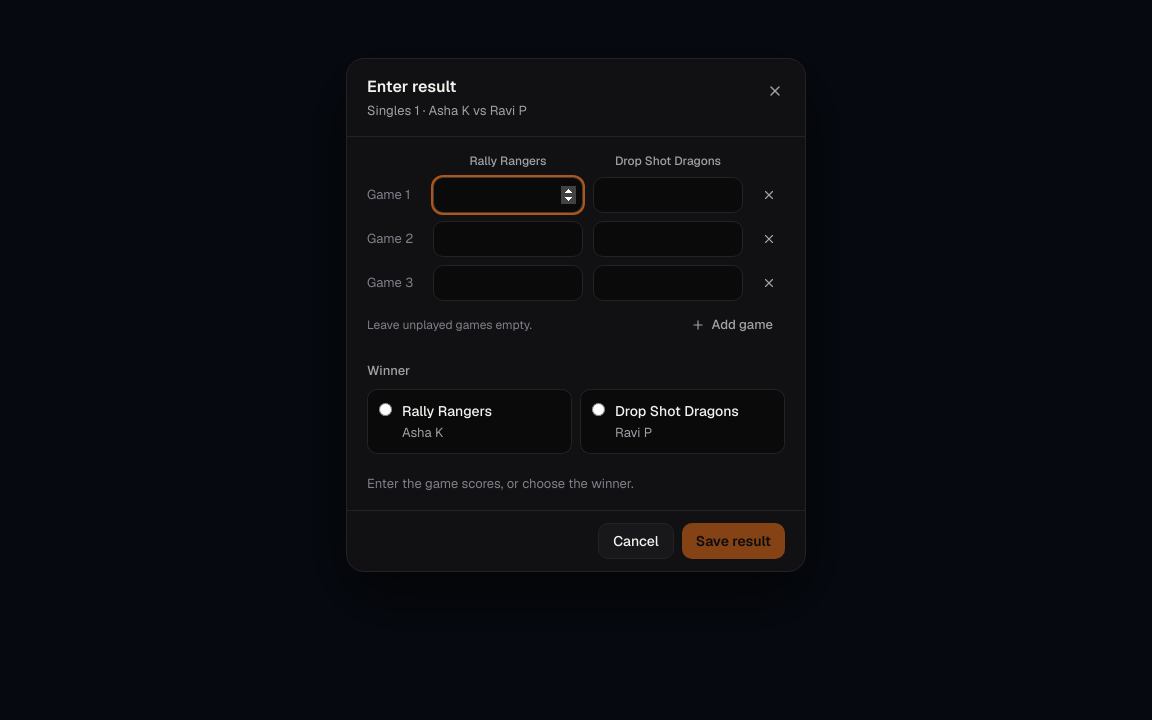
Test: SubMatchResultModal › blocks saving a level game
Type "20" into the number field named "Game 1, Rally Rangers" at (508, 195), box [433,177,583,213]
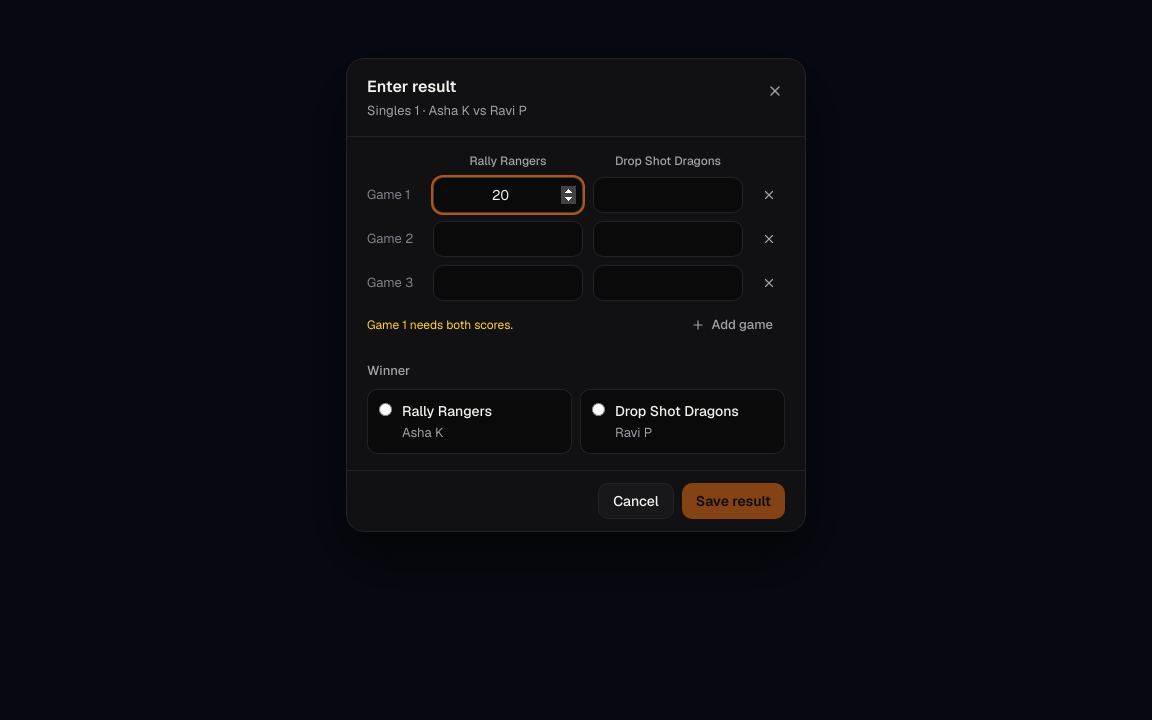
Type "20" into the number field named "Game 1, Drop Shot Dragons" at (668, 195), box [593,177,743,213]
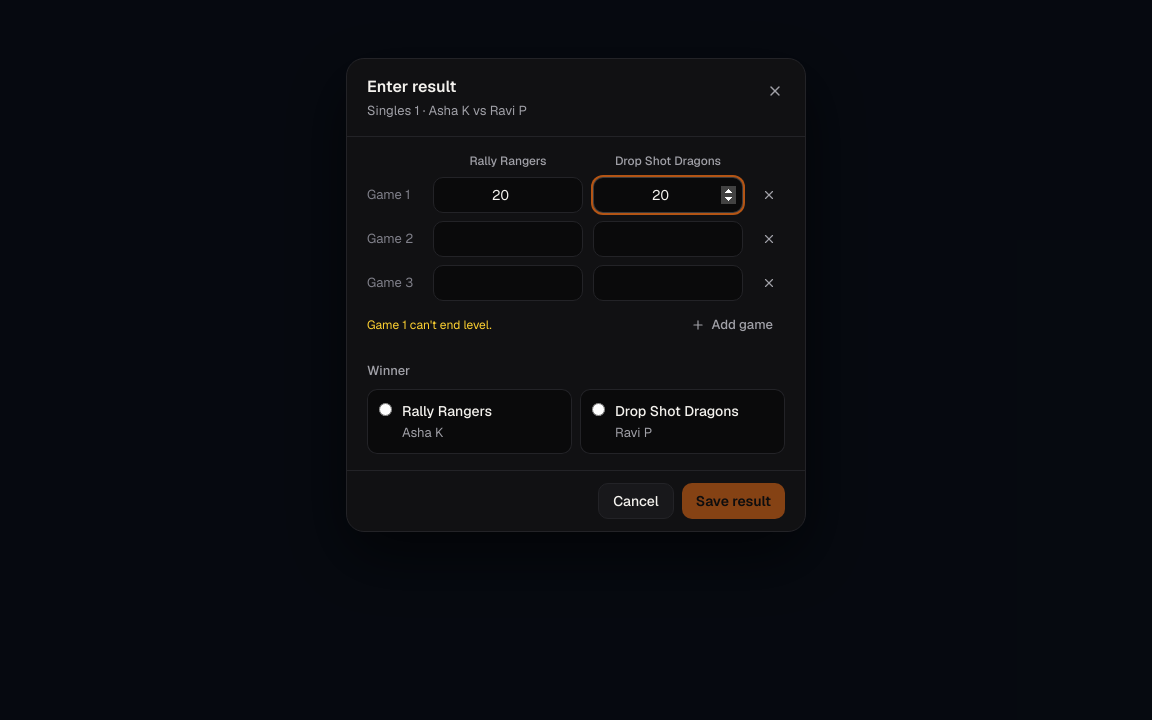
Expected: the button "Save result" is disabled, [682,483,785,519]
Now the text "Game 1 can't end level." is shown, box [367,317,492,333]
